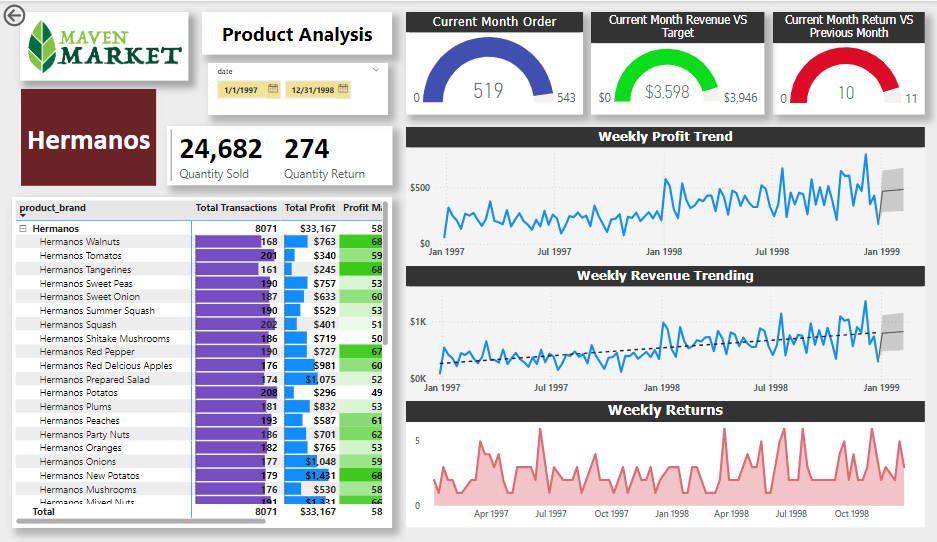

The dashboard page shown, as its layout file describes it:
{"tool":"powerbi","page":{"name":"Product Details","canvas":[1300,750],"ordinal":1},"visuals":[{"type":"pivotTable","fields":{"Values":["BaseMeasure.Total Transactions","BaseMeasure.Total Profit","BaseMeasure.Profit Margin","BaseMeasure.Return Rate"],"Rows":["Products.product_brand","Products.product_name"]},"box":[16.7,236.7,526.7,491.7],"z":0},{"type":"lineChart","title":"Weekly Revenue Trending","fields":{"Category":["Calendar.Start of Week"],"Y":["BaseMeasure.Total Revanue"]},"box":[561.7,366.7,718.3,186.7],"z":1000},{"type":"image","box":[28.3,15,233.3,95],"z":2000},{"type":"textbox","box":[280,40,263.3,58.3],"z":3000},{"type":"areaChart","title":"Weekly Returns","fields":{"Category":["Calendar.Start of Week"],"Y":["BaseMeasure.Total Returns"]},"box":[561.7,553.3,718.3,175],"z":4000},{"type":"lineChart","title":"Weekly Profit Trend","fields":{"Category":["Calendar.Start of Week"],"Y":["BaseMeasure.Total Profit"]},"box":[561.7,175,718.3,191.7],"z":5000},{"type":"gauge","title":"Current Month Order","fields":{"Y":["BaseMeasure.Total Transactions"],"MaxValue":["BaseMeasure.Last Month Transactions"]},"box":[561.7,15,245,141.7],"z":6000},{"type":"gauge","title":"Current Month Return VS Previous Month","fields":{"Y":["BaseMeasure.Total Returns"],"MaxValue":["BaseMeasure.Last Month Returns"]},"box":[1070,15,210,141.7],"z":7000},{"type":"gauge","title":"Current Month Revenue VS Target","fields":{"Y":["BaseMeasure.Total Revanue"],"MaxValue":["BaseMeasure.Revenue Target"]},"box":[818.3,15,240,141.7],"z":8000},{"type":"card","fields":{"Values":["Min(Products.product_brand)"]},"box":[28.3,135,171.7,81.7],"z":9000},{"type":"actionButton","box":[0,0,100,40],"z":10000},{"type":"multiRowCard","fields":{"Values":["BaseMeasure.Quantity Sold","BaseMeasure.Quantity Return"]},"box":[218.6,135.7,312.9,81.4],"z":11000}]}

Visuals, with their boxes in screenshot pixels (x1, y1, x2, y2), scaled from the page's 1300x750 canvas onto the 937x542 screenshot:
pivotTable - BaseMeasure.Total Transactions x BaseMeasure.Total Profit: 12, 171, 392, 526
"Weekly Revenue Trending" lineChart: 405, 265, 923, 400
image: 20, 11, 189, 79
textbox: 202, 29, 392, 71
"Weekly Returns" areaChart: 405, 400, 923, 526
"Weekly Profit Trend" lineChart: 405, 126, 923, 265
"Current Month Order" gauge: 405, 11, 581, 113
"Current Month Return VS Previous Month" gauge: 771, 11, 923, 113
"Current Month Revenue VS Target" gauge: 590, 11, 763, 113
card - Min(Products.product_brand): 20, 98, 144, 157
actionButton: 0, 0, 72, 29
multiRowCard - BaseMeasure.Quantity Sold x BaseMeasure.Quantity Return: 158, 98, 383, 157
